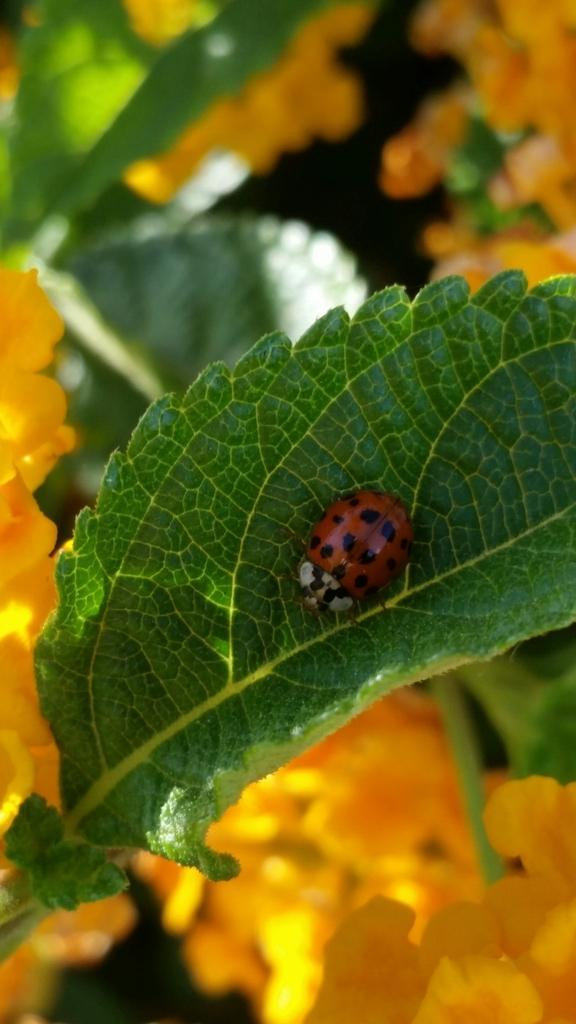ladybug: (288, 489, 420, 626)
